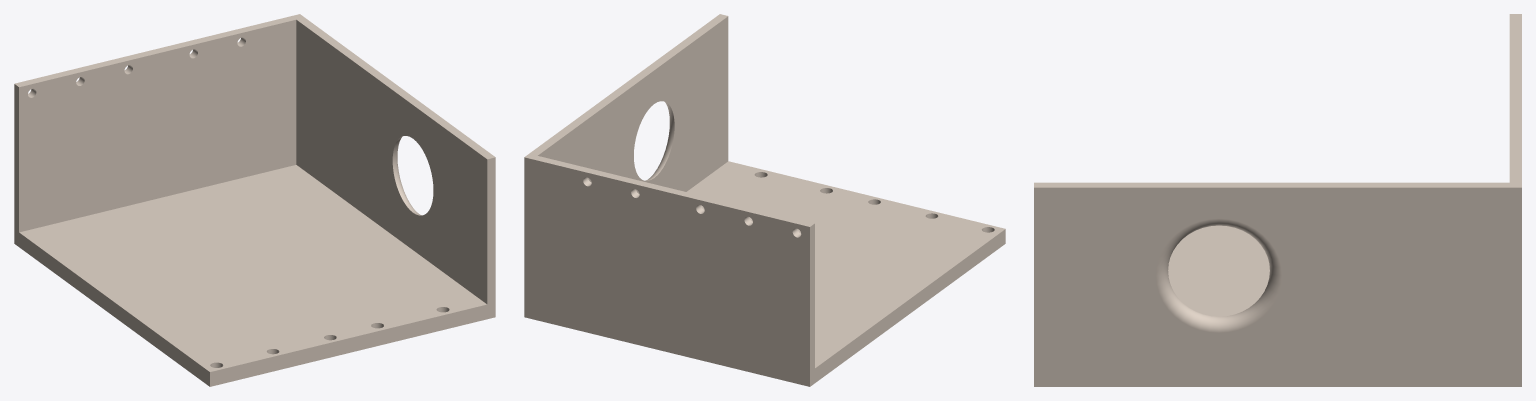
Rendered from upper_closer_plate_final_changed.glb.
3 renders of one model, left to right at view 1: azimuth 30°, elevation 25°; view 2: azimuth 150°, elevation 25°; view 3: azimuth 270°, elevation 25°, orthographic. The views are drawn at different scales.
Visible parts, largest first — view 1: upper closer plate final changed; view 2: upper closer plate final changed; view 3: upper closer plate final changed.
Part boxes in pixels (left/top/right/bottom): upper closer plate final changed: left=14, top=14, right=495, bottom=386; upper closer plate final changed: left=524, top=14, right=1005, bottom=386; upper closer plate final changed: left=1034, top=14, right=1521, bottom=386.
Size of the model in its own units: 0.101 by 0.054 by 0.1198.
